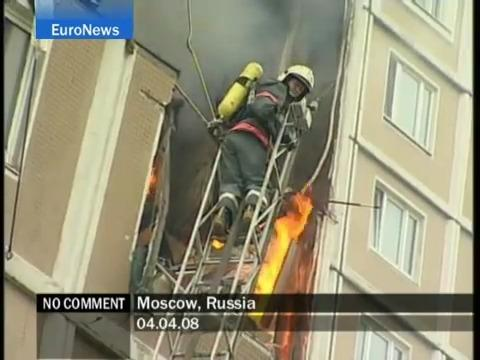fire: (260, 189, 315, 295), (148, 162, 158, 193), (211, 236, 224, 248)
